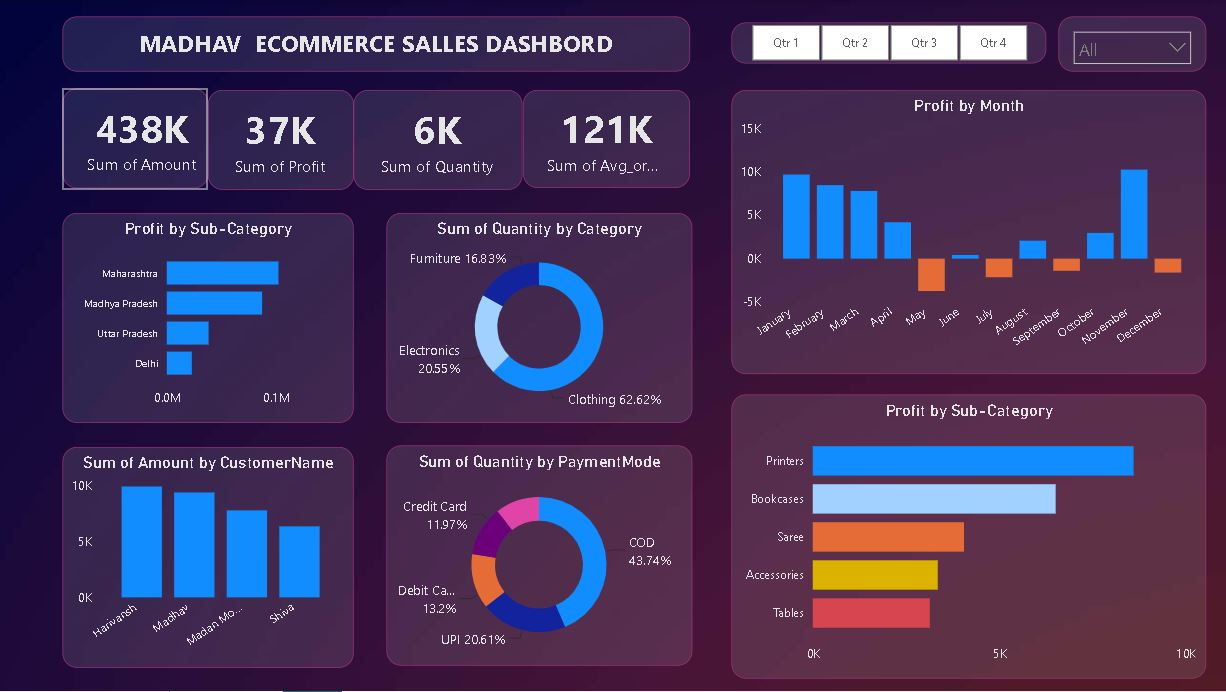

The dashboard page shown, as its layout file describes it:
{"tool":"powerbi","page":{"name":"Page 1","canvas":[1280,720],"ordinal":0},"visuals":[{"type":"textbox","box":[66.7,16.7,653.7,57.4],"z":0},{"type":"columnChart","title":"Profit by Month","fields":{"Y":["Sum(Details.Profit)"],"Category":["Orders.Order Date.Variation.Date Hierarchy.Month"]},"box":[764.8,94.4,494.4,296.3],"z":1000},{"type":"barChart","title":"Profit by Sub-Category","fields":{"Category":["Details.Sub-Category"],"Y":["Sum(Details.Profit)"]},"box":[764.8,411.1,494.4,296.3],"z":2000},{"type":"donutChart","fields":{"Category":["Details.Category"],"Y":["Sum(Details.Quantity)"]},"box":[405.6,222.2,318.5,218.5],"z":3000},{"type":"pieChart","fields":{"Y":["Sum(Details.Quantity)"],"Category":["Details.PaymentMode"]},"box":[405.6,464.8,318.5,229.6],"z":4000},{"type":"barChart","title":"Profit by Sub-Category","fields":{"Category":["Orders.State"],"Y":["Sum(Details.Amount)"]},"box":[66.7,221.7,303.3,218.3],"z":5000},{"type":"columnChart","fields":{"Y":["Sum(Details.Amount)"],"Category":["Orders.CustomerName"]},"box":[67,465,303,230],"z":6000},{"type":"cardVisual","fields":{"Data":["Sum(Details.Amount)"]},"box":[66.7,92.6,151.9,103.7],"z":7000},{"type":"cardVisual","fields":{"Data":["Sum(Details.Profit)"]},"box":[218.5,94.4,151.9,103.7],"z":8000},{"type":"cardVisual","fields":{"Data":["Sum(Details.Quantity)"]},"box":[370.4,94.4,175.9,103.7],"z":9000},{"type":"cardVisual","fields":{"Data":["Sum(Details.Avg_order_value)"]},"box":[546.3,94.4,174.1,101.9],"z":10000},{"type":"slicer","fields":{"Values":["Orders.Order Date.Variation.Date Hierarchy.Quarter"]},"box":[764.8,24.1,327.8,42.6],"z":11000},{"type":"slicer","fields":{"Values":["Orders.State"]},"box":[1105.6,16.7,153.7,57.4],"z":12000}]}

Visuals, with their boxes in screenshot pixels (x1, y1, x2, y2), scaled from the page's 1280x720 canvas onto the 1226x692 screenshot:
textbox: bbox=[64, 16, 690, 71]
"Profit by Month" columnChart: bbox=[733, 91, 1206, 376]
"Profit by Sub-Category" barChart: bbox=[733, 395, 1206, 680]
donutChart - Details.Category x Sum(Details.Quantity): bbox=[388, 214, 694, 424]
pieChart - Sum(Details.Quantity) x Details.PaymentMode: bbox=[388, 447, 694, 667]
"Profit by Sub-Category" barChart: bbox=[64, 213, 354, 423]
columnChart - Sum(Details.Amount) x Orders.CustomerName: bbox=[64, 447, 354, 668]
cardVisual - Sum(Details.Amount): bbox=[64, 89, 209, 189]
cardVisual - Sum(Details.Profit): bbox=[209, 91, 355, 190]
cardVisual - Sum(Details.Quantity): bbox=[355, 91, 523, 190]
cardVisual - Sum(Details.Avg_order_value): bbox=[523, 91, 690, 189]
slicer - Orders.Order Date.Variation.Date Hierarchy.Quarter: bbox=[733, 23, 1047, 64]
slicer - Orders.State: bbox=[1059, 16, 1206, 71]
